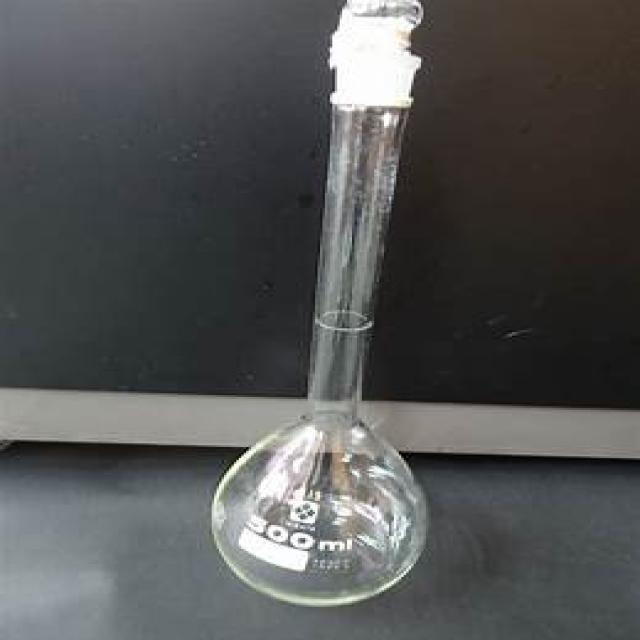Volumetric flask: (211, 17, 426, 602)
